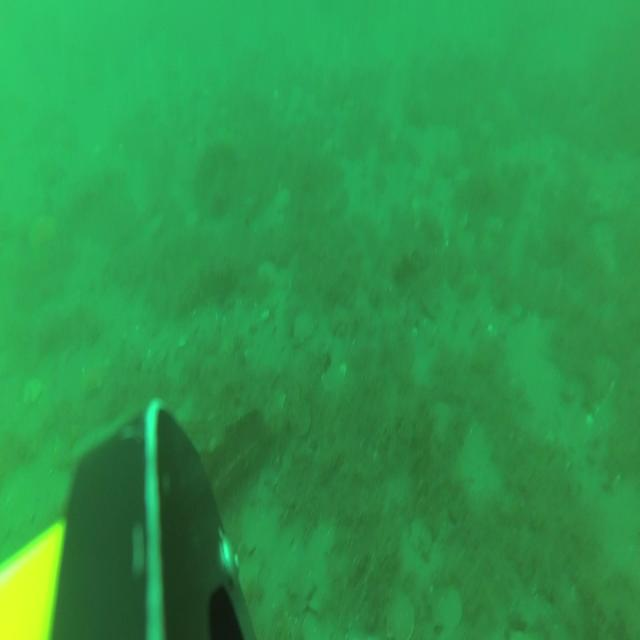scallop: (430, 581, 466, 639), (408, 514, 436, 559), (287, 395, 313, 438), (292, 307, 314, 347)
starfish: (26, 210, 64, 264), (382, 588, 416, 640)
